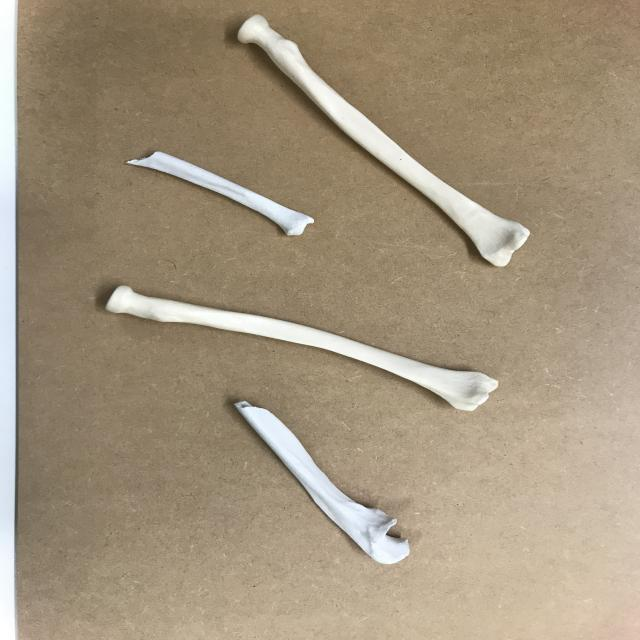bone: (228, 11, 534, 270), (102, 278, 506, 418), (231, 396, 417, 572), (124, 143, 320, 238)
